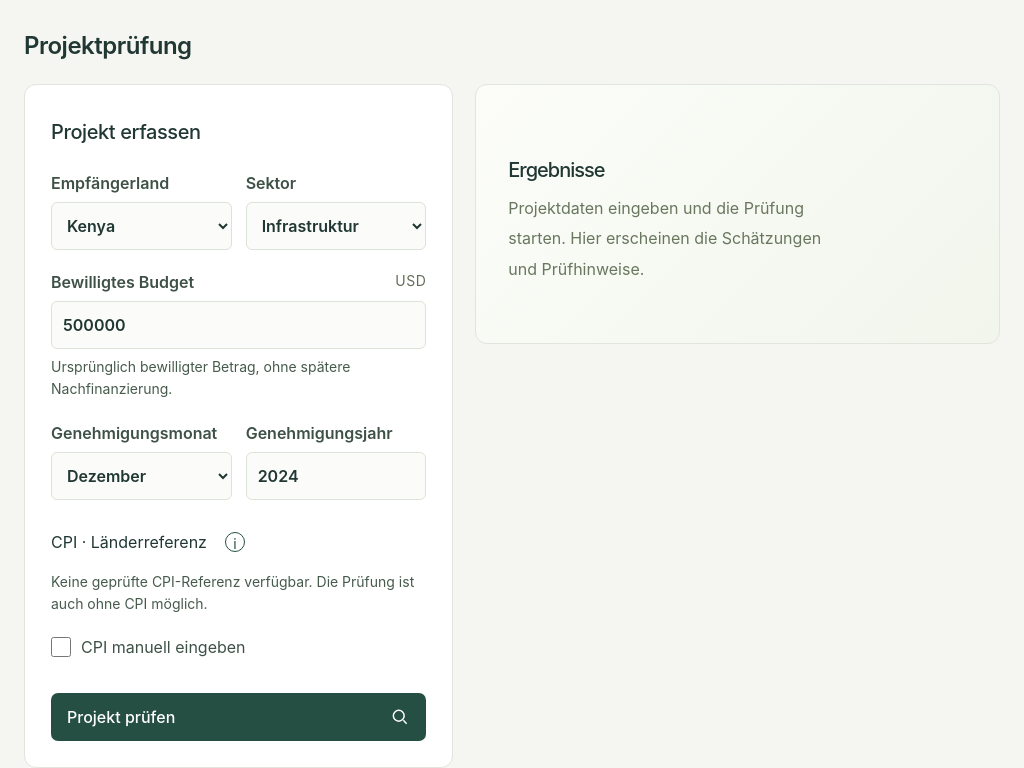
it: project screening › labels model output once and keeps the result handoff visually quiet
Click the button "Projekt prüfen".
click(121, 717)  # box [51, 693, 426, 741]
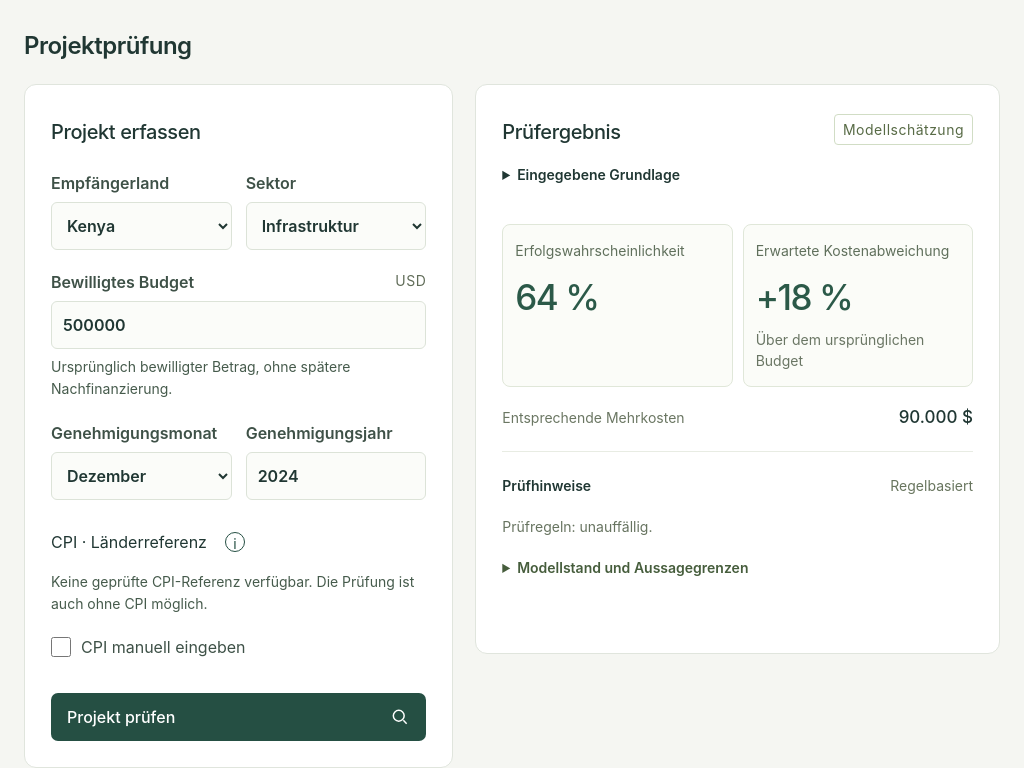
Result: the heading "Prüfergebnis" is shown at [502, 117, 621, 147]
Result: the text "Modellschätzung" is shown once at [834, 114, 973, 144]
